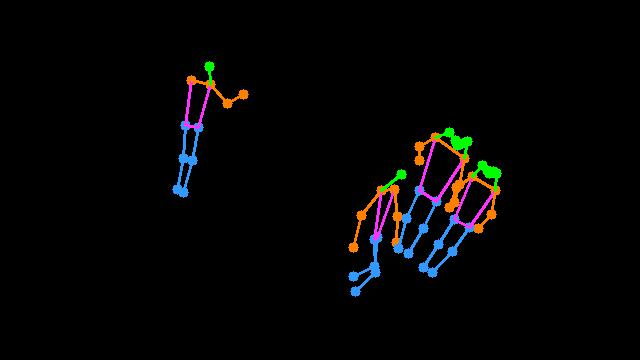normal: (324, 108, 520, 318)
